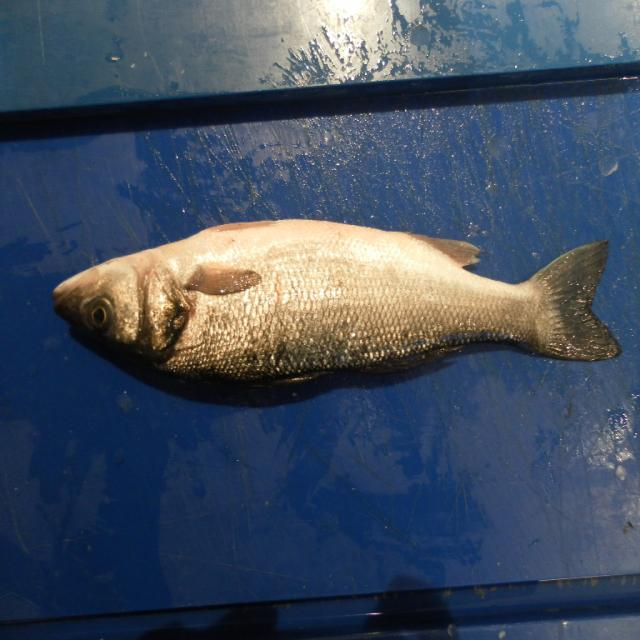Sea-Bass-levrek-: (52, 220, 622, 408)
